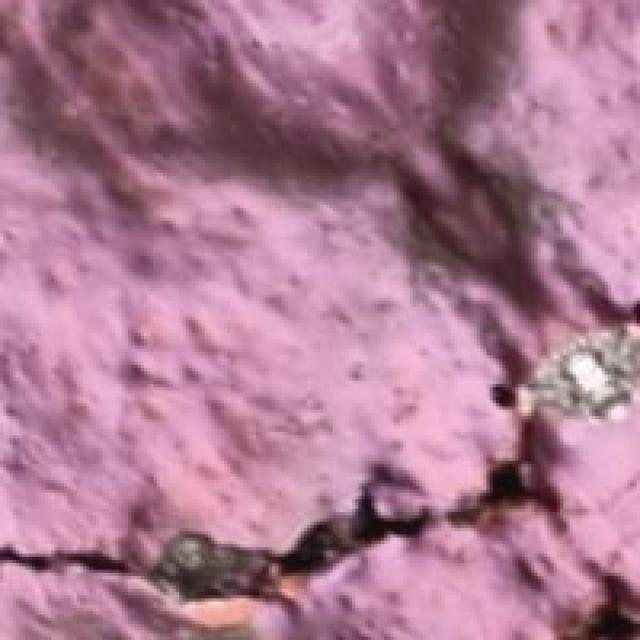SurfaceCrack: (0, 416, 540, 626)
